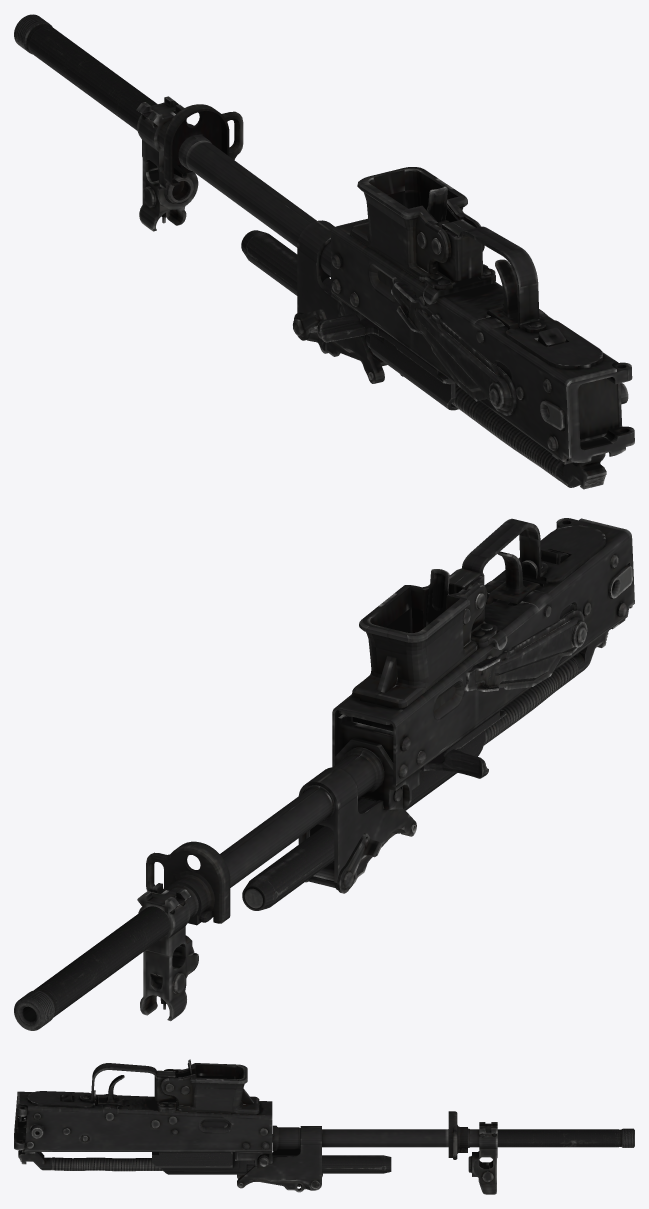
3 views of the same model, one above another, from view 1: azimuth 30°, elevation 25°; view 2: azimuth 150°, elevation 25°; view 3: azimuth 270°, elevation 25° (orthographic). The views are drawn at different scales.
Parts seen in each view (by area): view 1: TW_59f9cabd86f7743a10721f46_PZ_Import; view 2: TW_59f9cabd86f7743a10721f46_PZ_Import; view 3: TW_59f9cabd86f7743a10721f46_PZ_Import.
Boxes of the visible parts, x1,y1,x2,y2 form: TW_59f9cabd86f7743a10721f46_PZ_Import: [14, 14, 634, 489]; TW_59f9cabd86f7743a10721f46_PZ_Import: [14, 518, 634, 1030]; TW_59f9cabd86f7743a10721f46_PZ_Import: [14, 1059, 634, 1194].
Bounding box in the file's own units: 0.0411 × 0.3124 × 0.0722.
1 material, 1 textured.
